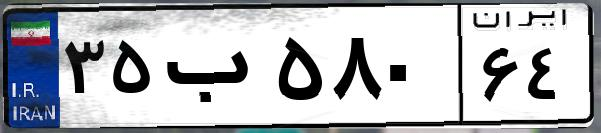0: (385, 28, 445, 110)
3: (57, 26, 110, 100)
4: (525, 38, 570, 115)
5: (270, 28, 330, 110), (110, 28, 158, 98)
6: (475, 38, 525, 113)
8: (330, 28, 385, 110)
ب: (158, 20, 270, 120)
